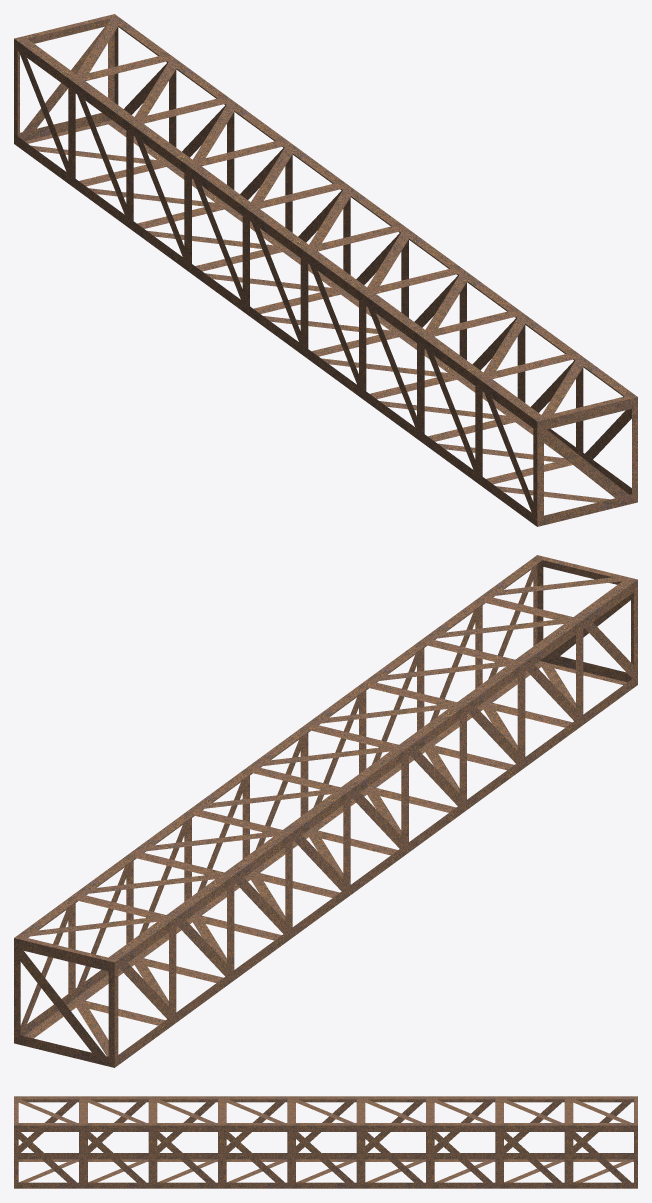
The model's file is bracing_complex_geo.glb.
The picture shows the model from 3 angles, top to bottom: view 1: azimuth 30°, elevation 25°; view 2: azimuth 150°, elevation 25°; view 3: azimuth 270°, elevation 25°; orthographic projection. The views are drawn at different scales.
Visible parts, largest first — view 1: Cube; view 2: Cube; view 3: Cube.
Part boxes in pixels (x1,y1,x2,y2): Cube: (14,14,637,526); Cube: (14,555,637,1067); Cube: (14,1096,637,1188).
Bounding box in the file's own units: 1.56 × 1.56 × 14.
Materials: 1 (1 with a texture image).
